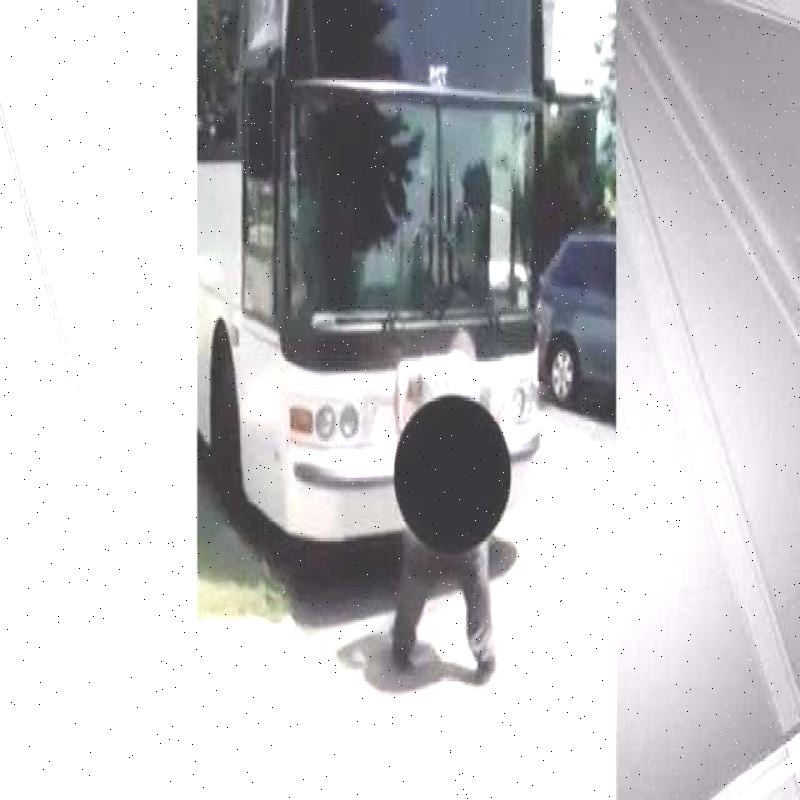bus: (187, 1, 568, 572)
